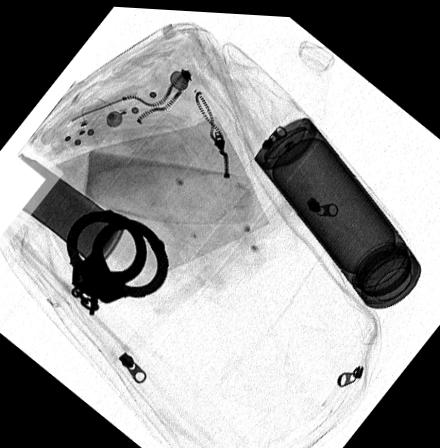HandCuffs: (65, 207, 168, 316)
